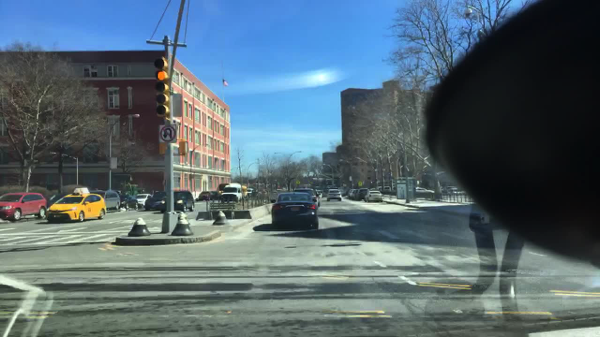car: (271, 191, 319, 233), (46, 193, 108, 222), (0, 191, 46, 222), (90, 189, 120, 212), (292, 187, 320, 207), (144, 191, 168, 213), (173, 190, 195, 212), (222, 183, 243, 204), (119, 194, 137, 209), (413, 187, 434, 198), (355, 187, 369, 203), (137, 193, 153, 207), (365, 190, 383, 202), (327, 189, 342, 202), (198, 190, 211, 202), (442, 185, 458, 194), (209, 191, 221, 200), (353, 188, 359, 200), (246, 188, 254, 196), (383, 185, 391, 192), (349, 188, 355, 197), (115, 189, 124, 195), (347, 188, 354, 195)
traffic light: (153, 58, 170, 115)
traffic sign: (158, 124, 177, 143), (357, 179, 363, 187), (295, 179, 301, 184)
